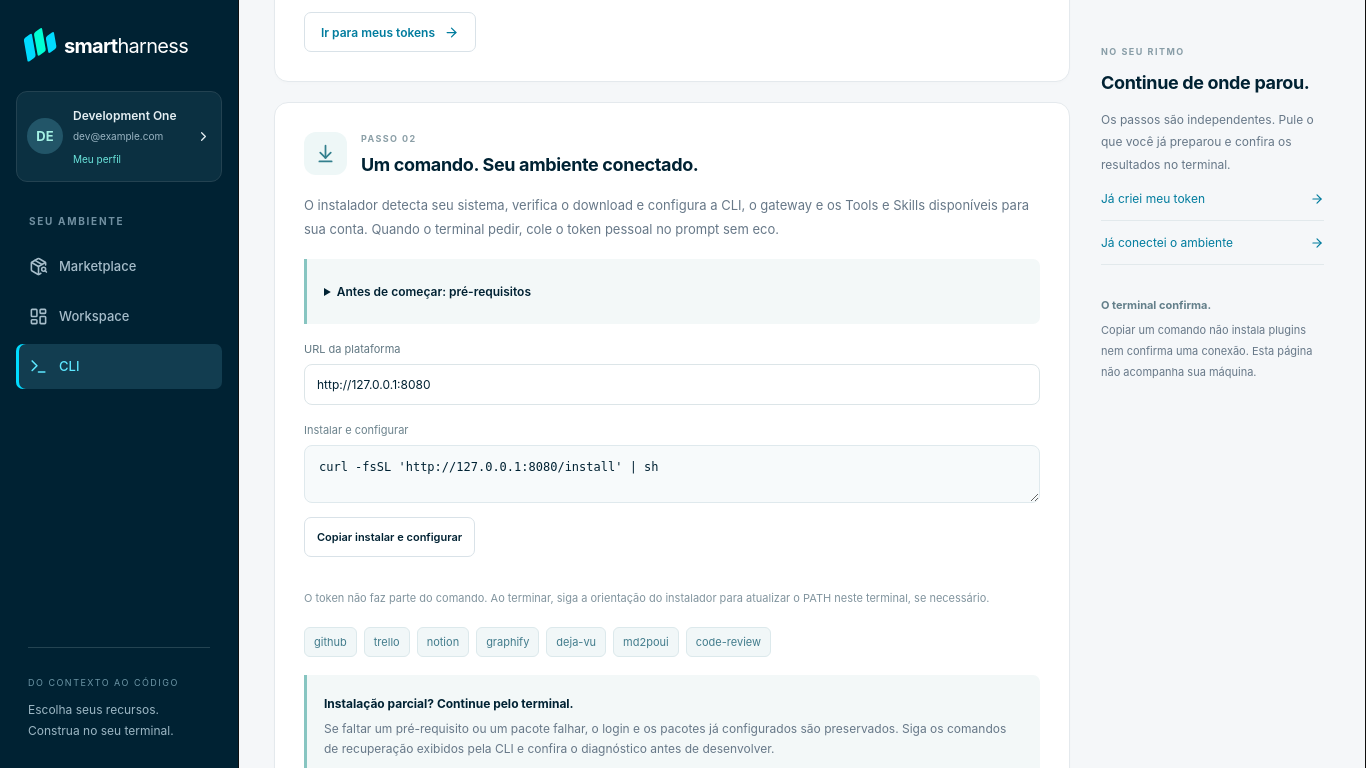
Test: hides the installer for unsafe origins and recovers with the corrected command
(page scrolled)
Replace the text in the field labelled "URL da plataforma" with "https://user:secret@example.com" at [672, 385], box [304,364,1040,405]
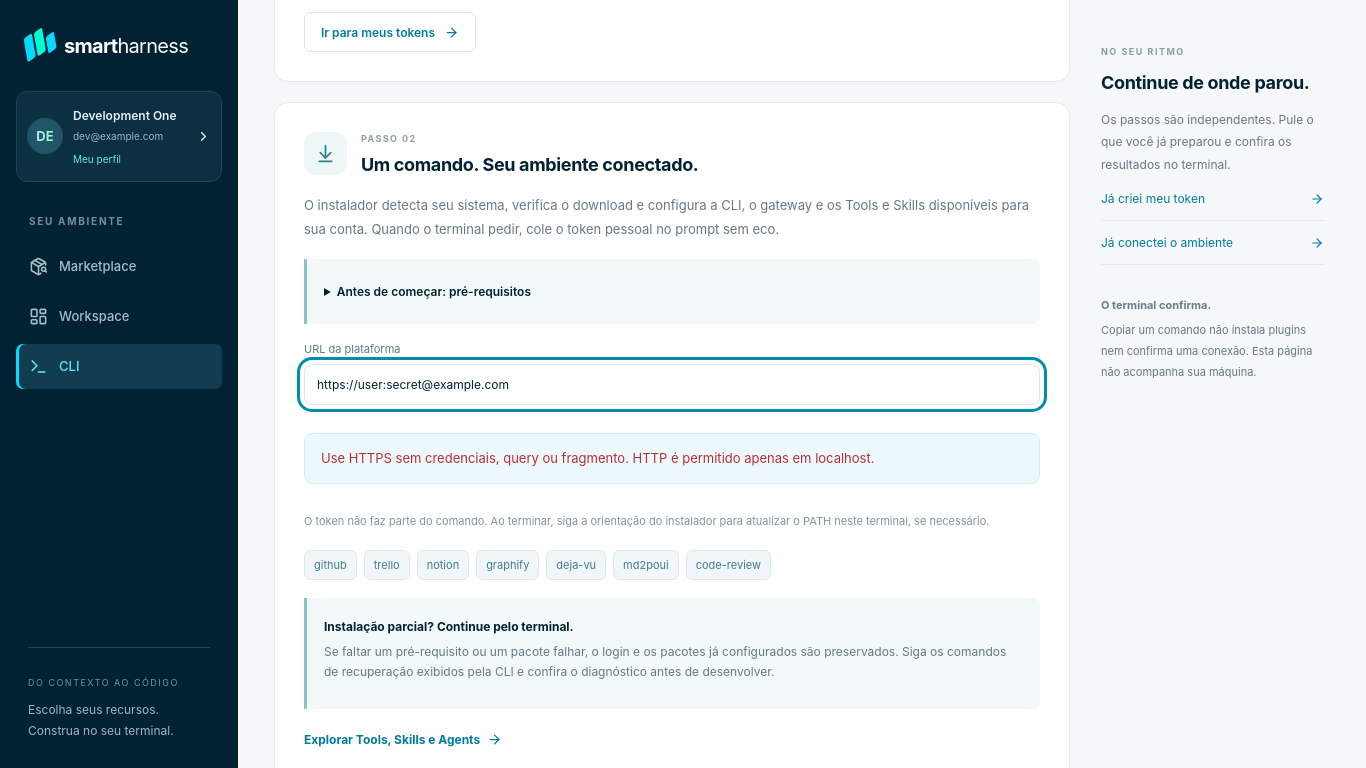
Expected: the button "Copiar instalar e configurar" is not shown
Expected: the message is shown, [304,433,1040,484]
Replace the text in the field labelled "URL da plataforma" with "http://external.example.com" at [672, 385], box [304,364,1040,405]
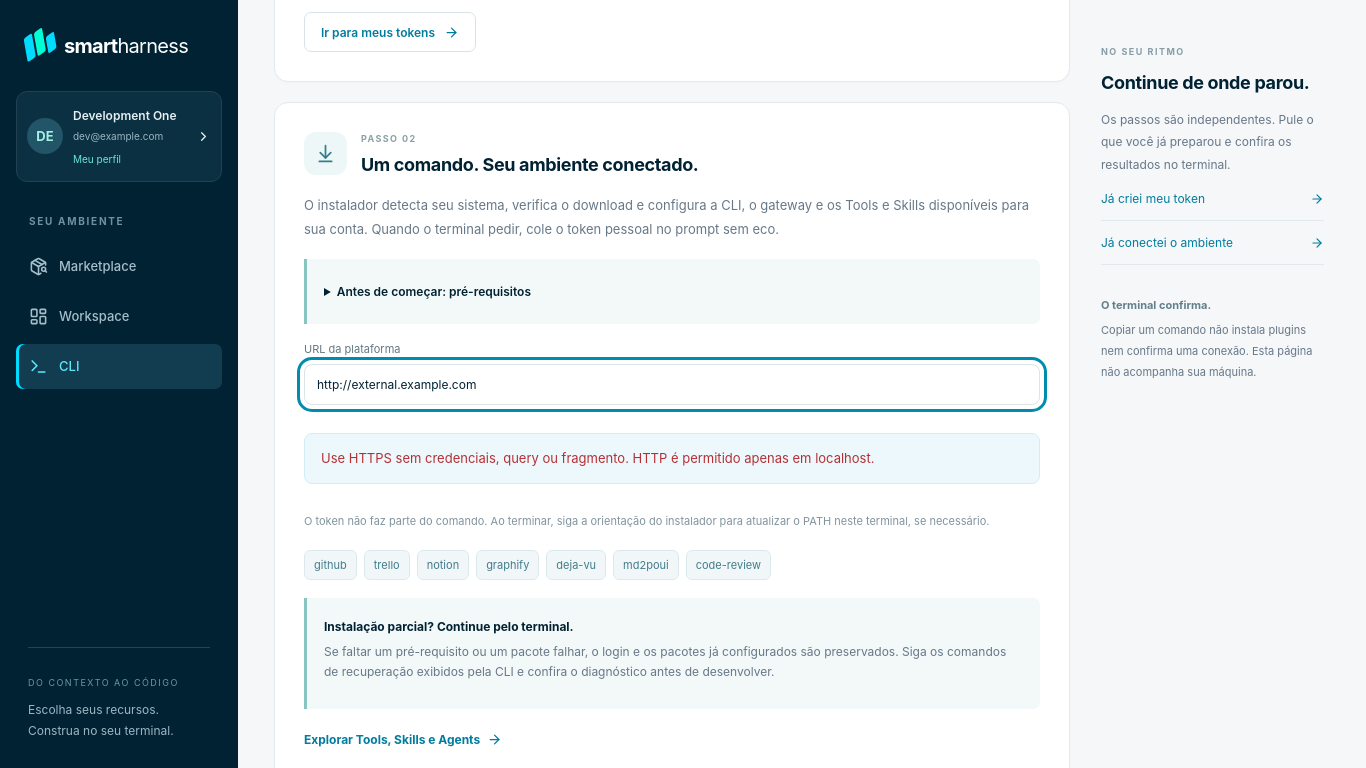
Expected: the button "Copiar instalar e configurar" is not shown
Expected: the message is shown, [304,433,1040,484]
Replace the text in the field labelled "URL da plataforma" with "https://harness.example.com" at [672, 385], box [304,364,1040,405]
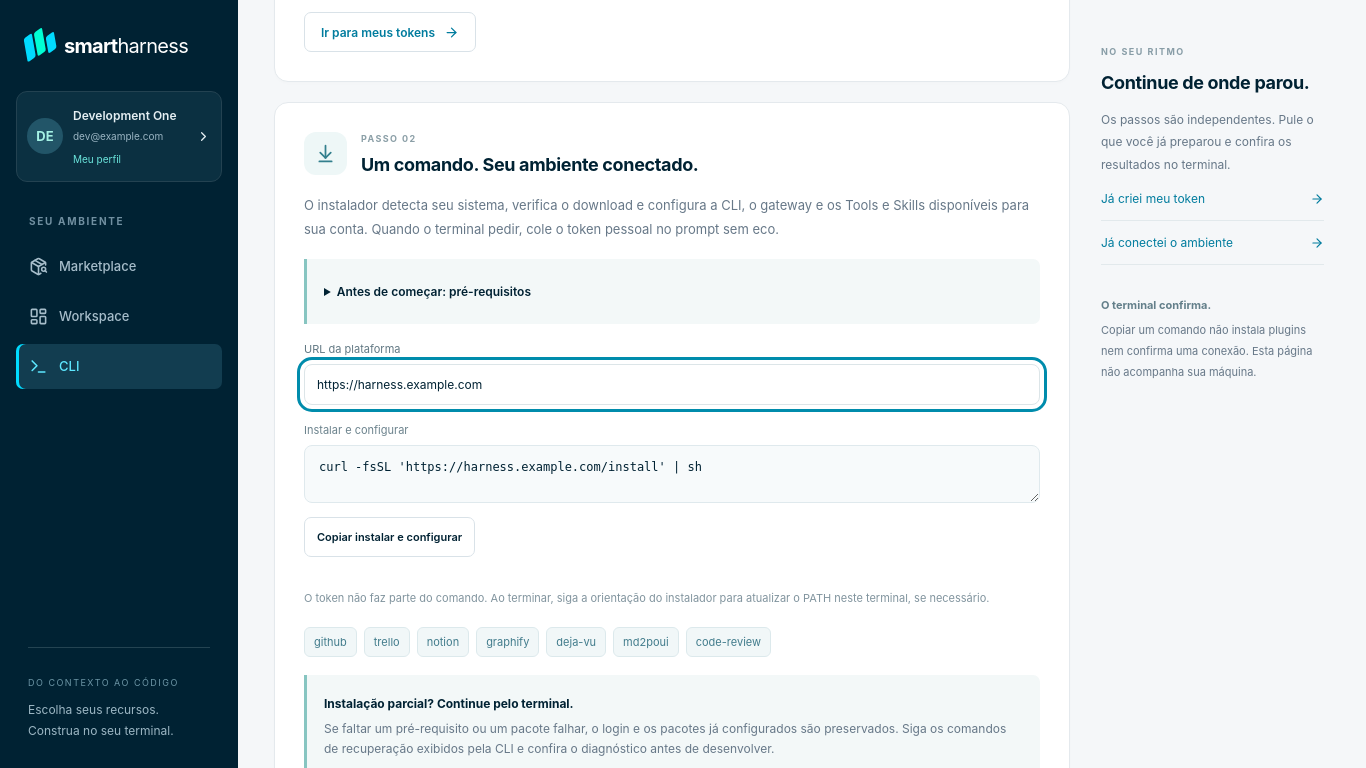
Expected: the text box showing "curl -fsSL 'https://harness.example.com/install' | sh" is shown, [304,445,1040,503]
Expected: the message is gone
